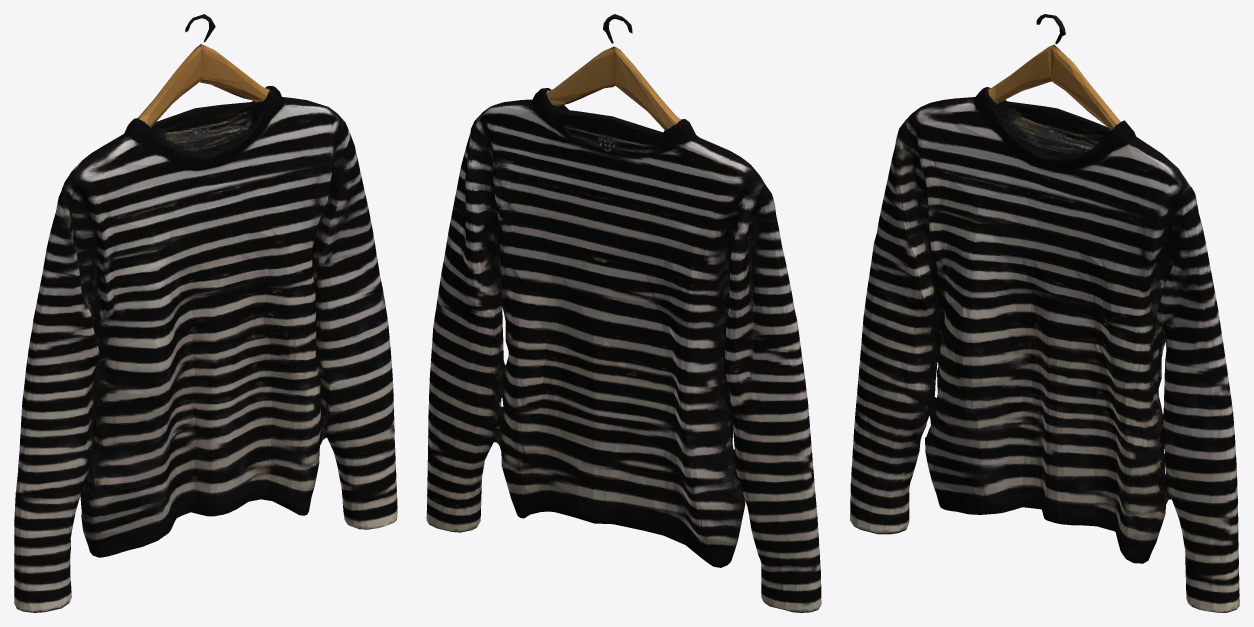
The model's file is box_controller_game.glb.
3 views of the same model, side by side, from view 1: azimuth 30°, elevation 25°; view 2: azimuth 150°, elevation 25°; view 3: azimuth 330°, elevation 25° (orthographic).
Parts seen in each view (by area): view 1: geometry_0; view 2: geometry_0; view 3: geometry_0.
Boxes of the visible parts, <box> form: geometry_0: <box>14,14,397,612</box>; geometry_0: <box>426,14,821,612</box>; geometry_0: <box>850,14,1239,612</box>.
Bounding box in the file's own units: 0.7359 × 0.9993 × 0.1322.
Materials: 1 (1 with a texture image).
